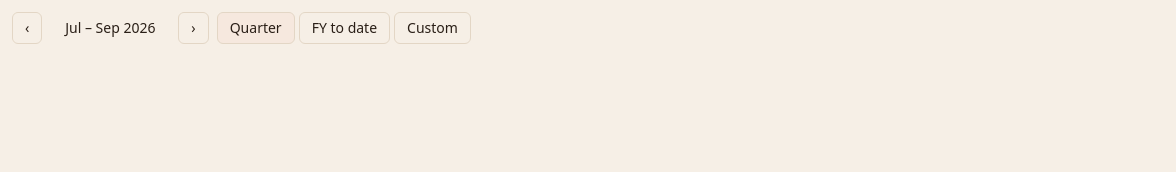
DateRangeControl › opens From and To when Custom is pressed on a preset range
Expected: the field labelled "From" is not shown
Step 1. Click the button "Custom" → (432, 28), box [394, 12, 471, 44]
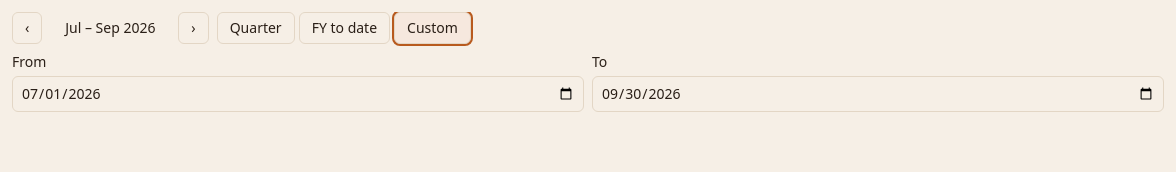
Now the date field labelled "From" holds "2026-07-01", box [12, 76, 584, 112]
